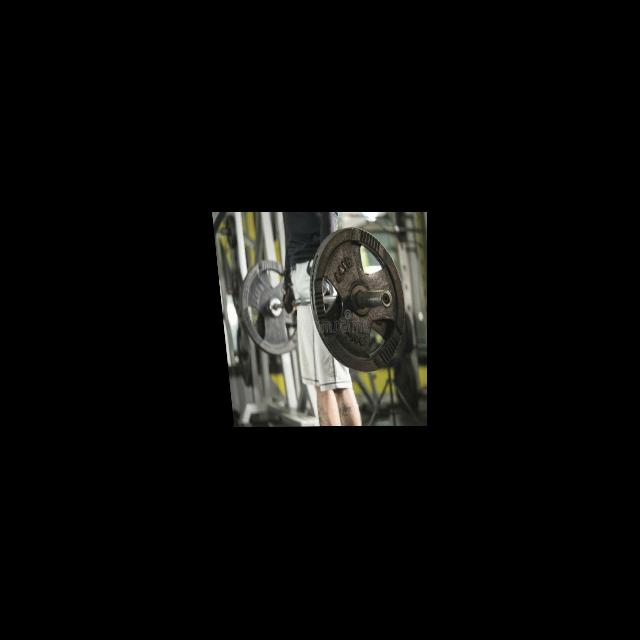barbell: (304, 226, 409, 372)
